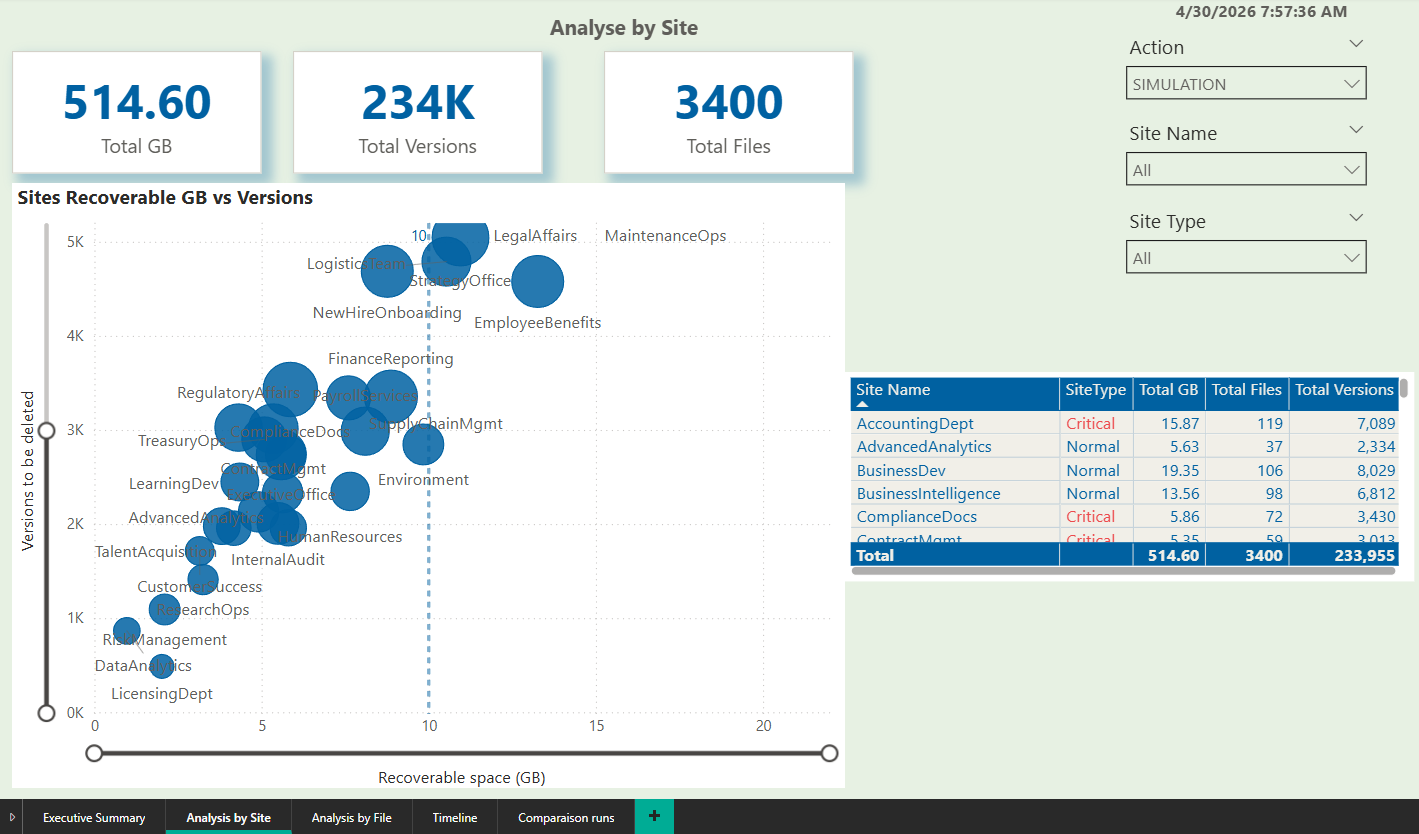

The page's visual inventory and layout, read from the dashboard file:
{"tool":"powerbi","page":{"name":"Analysis by Site","canvas":[1280,720],"ordinal":1},"visuals":[{"type":"card","fields":{"Values":["fact_VersionReport.Total GB"]},"box":[13.6,48.6,223.7,109.9],"z":0},{"type":"card","fields":{"Values":["fact_VersionReport.Total Versions"]},"box":[265.5,48.6,223.7,109.9],"z":1000},{"type":"card","fields":{"Values":["fact_VersionReport.Total Fichiers"]},"box":[544.7,48.6,223.7,109.9],"z":2000},{"type":"scatterChart","title":"Sites  Recoverable GB vs Versions","fields":{"X":["fact_VersionReport.Total GB"],"Category":["fact_VersionReport.Nom du Site"],"Size":["fact_VersionReport.Total Fichiers"],"Y":["fact_VersionReport.Total Versions"]},"box":[13.6,167.3,747,552.5],"z":3000},{"type":"tableEx","fields":{"Values":["fact_VersionReport.Nom du Site","fact_VersionReport.SiteType","fact_VersionReport.Total GB","fact_VersionReport.Total Fichiers","fact_VersionReport.Total Versions"]},"box":[760.6,336.5,511.6,187.7],"z":4000},{"type":"slicer","fields":{"Values":["fact_VersionReport.Action"]},"box":[1003.8,27.2,236.4,76.8],"z":5000},{"type":"slicer","fields":{"Values":["fact_VersionReport.Nom du Site"]},"box":[1003.8,104.1,236.4,72.9],"z":6000},{"type":"textbox","box":[295.7,8.8,535,35],"z":7000},{"type":"card","fields":{"Values":["Min(LastRefreshDate.LastRefreshDate)"]},"box":[991.1,0,288.9,25.3],"z":8000},{"type":"slicer","fields":{"Values":["fact_VersionReport.SiteType"]},"box":[1003.8,182.9,236.4,72.9],"z":8001}]}

Visuals, with their boxes on the page's 1280x720 design canvas (x1, y1, x2, y2). These are canvas units, not pixel positions in the 1419x834 screenshot, which may show the page scaled, cropped or inside an application window:
card - fact_VersionReport.Total GB: crop(14, 49, 237, 158)
card - fact_VersionReport.Total Versions: crop(266, 49, 489, 158)
card - fact_VersionReport.Total Fichiers: crop(545, 49, 768, 158)
"Sites  Recoverable GB vs Versions" scatterChart: crop(14, 167, 761, 720)
tableEx - fact_VersionReport.Nom du Site x fact_VersionReport.SiteType: crop(761, 336, 1272, 524)
slicer - fact_VersionReport.Action: crop(1004, 27, 1240, 104)
slicer - fact_VersionReport.Nom du Site: crop(1004, 104, 1240, 177)
textbox: crop(296, 9, 831, 44)
card - Min(LastRefreshDate.LastRefreshDate): crop(991, 0, 1280, 25)
slicer - fact_VersionReport.SiteType: crop(1004, 183, 1240, 256)
